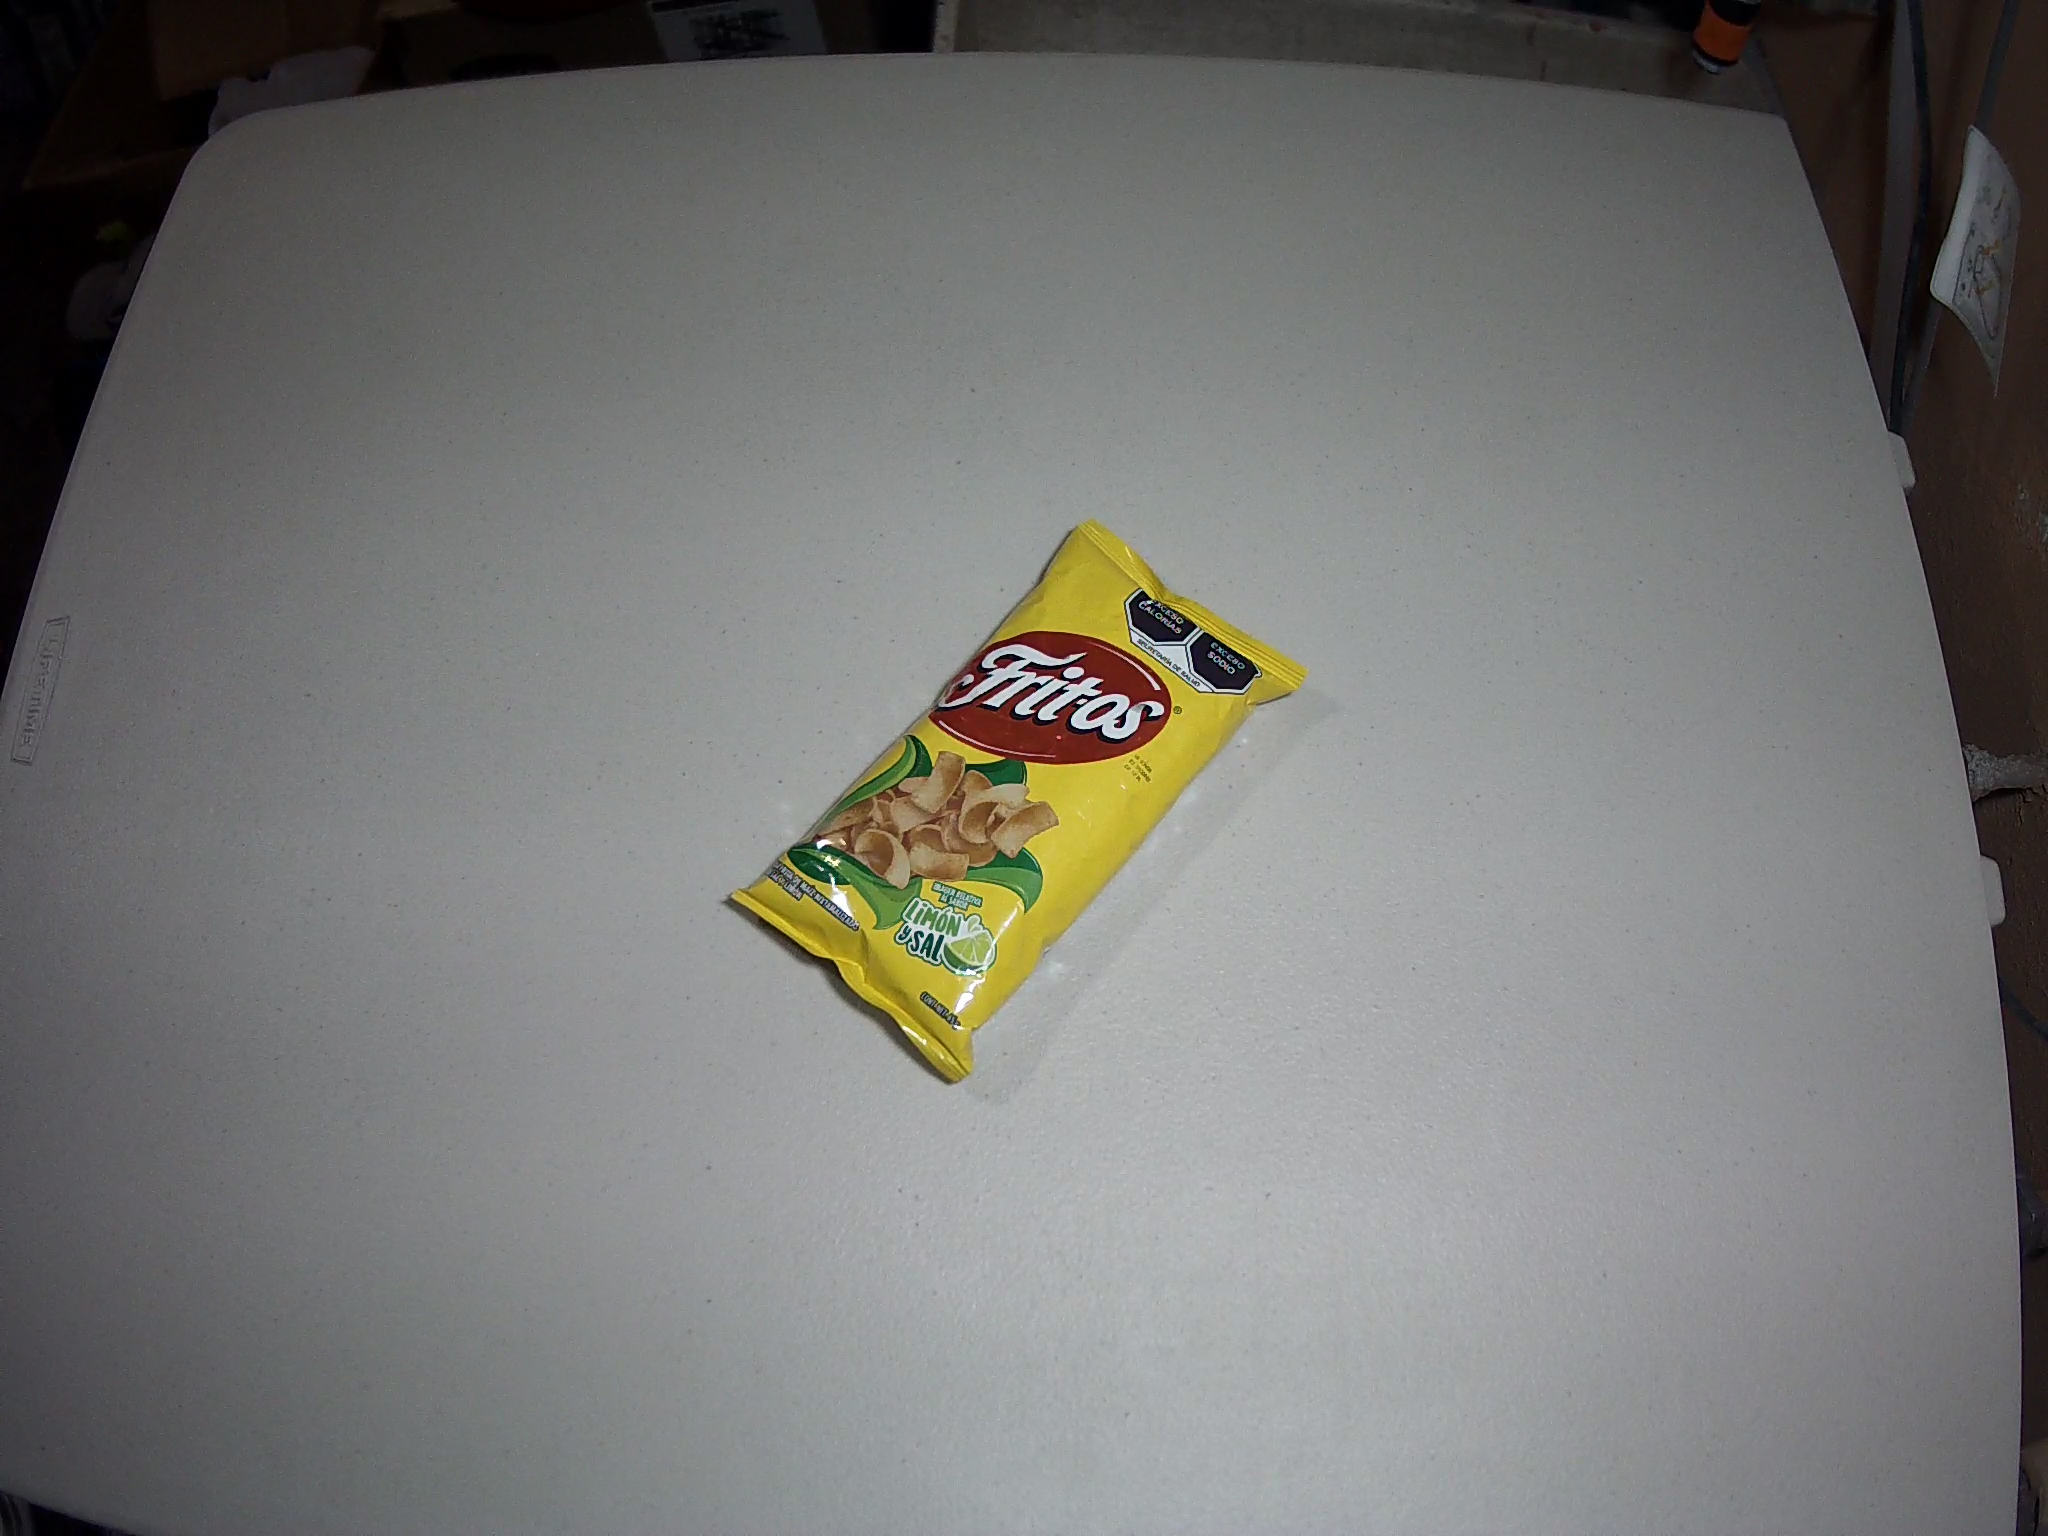FritosSalLimon_65_F: (726, 515, 1308, 1084)
